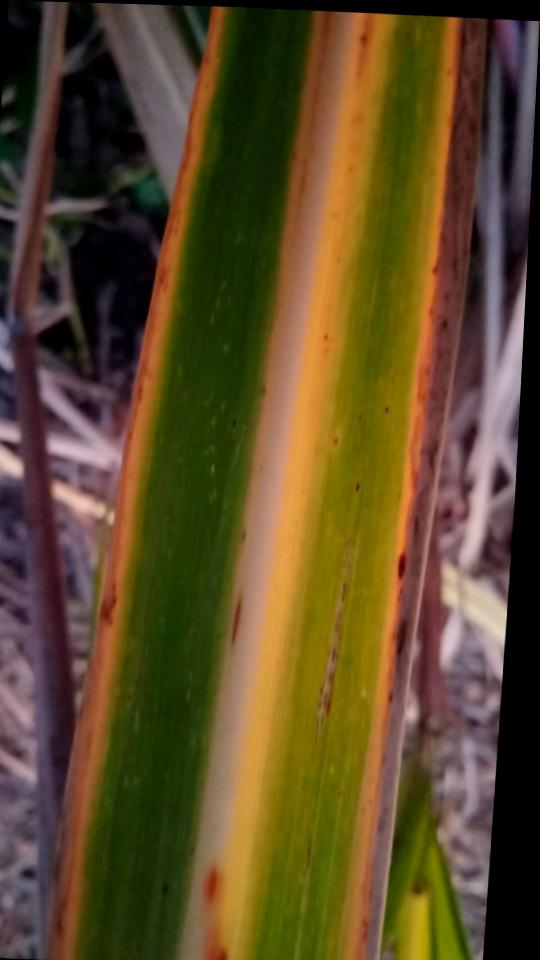RedRot: (202, 920, 227, 960), (204, 867, 217, 905)
Rust: (313, 539, 357, 744), (229, 591, 244, 645), (354, 481, 362, 492), (332, 435, 340, 446), (262, 386, 268, 396), (323, 332, 329, 342), (384, 405, 390, 414), (358, 411, 364, 420), (232, 418, 237, 428)
Yellow: (45, 6, 228, 960), (344, 17, 489, 960)
